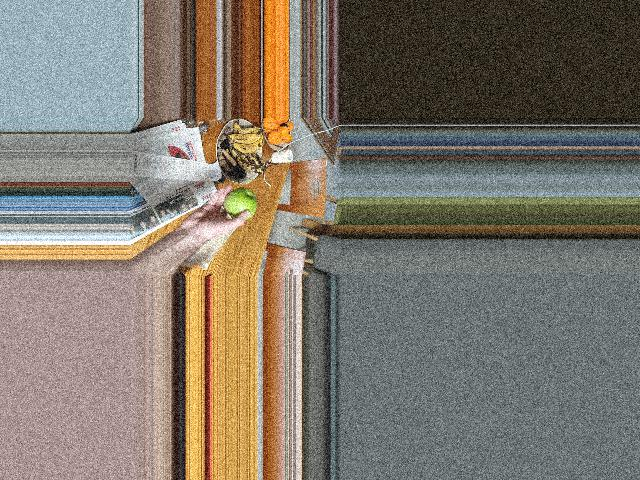apple: (222, 188, 257, 222)
